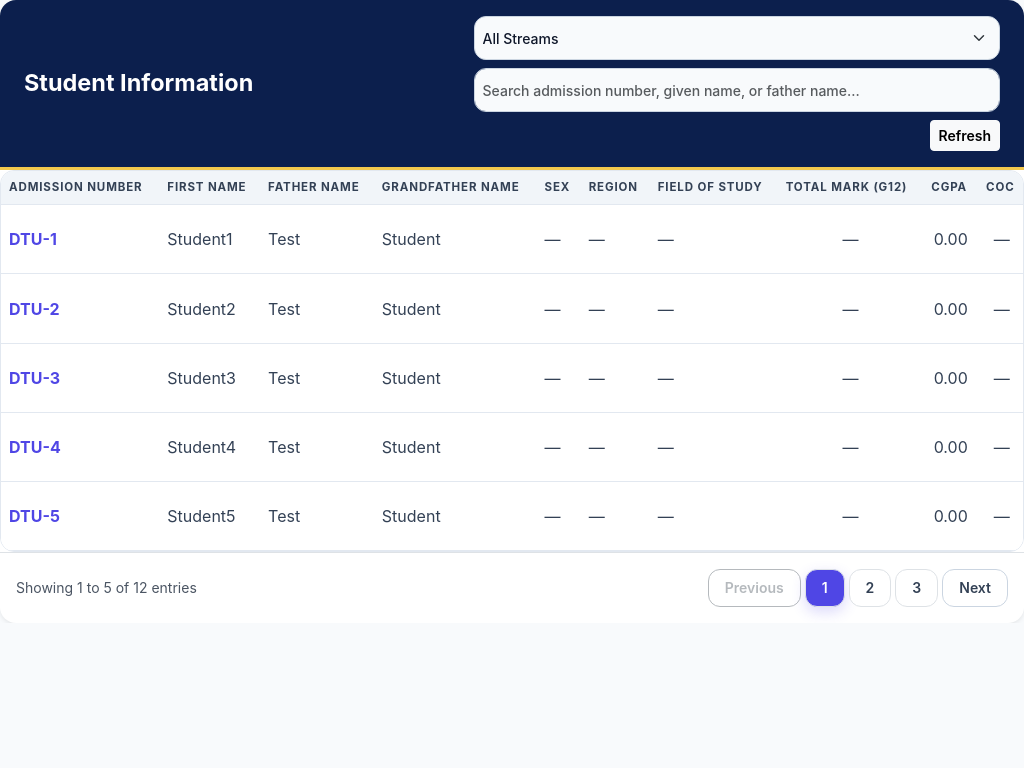
Test case: StudentInformation › paginates student records five at a time and supports page navigation
Check: the text "Showing 1 to 5 of 12 entries" is shown, box [16, 578, 197, 598]
Check: the text "Student1" is shown, box [159, 205, 260, 274]
Click the button "Next": (975, 588) [942, 569, 1008, 607]
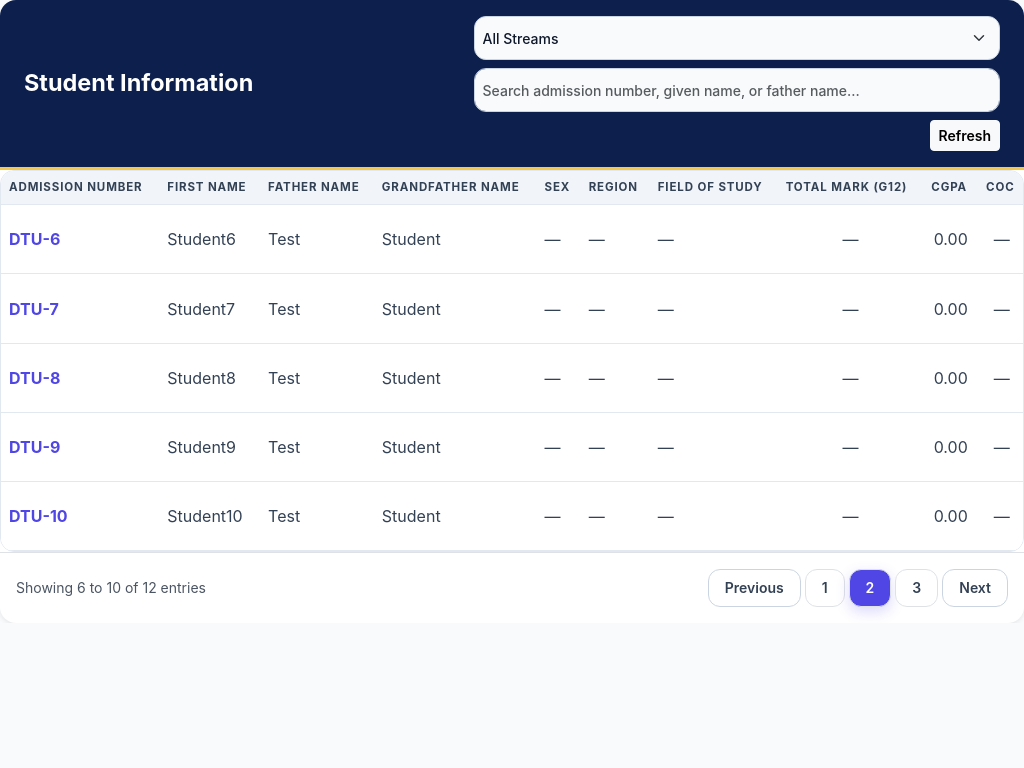
Check: the text "Showing 6 to 10 of 12 entries" is shown, box [16, 578, 206, 598]
Check: the text "Student6" is shown, box [159, 205, 260, 274]
Click the button named "Page 3": (917, 588) [895, 569, 938, 607]
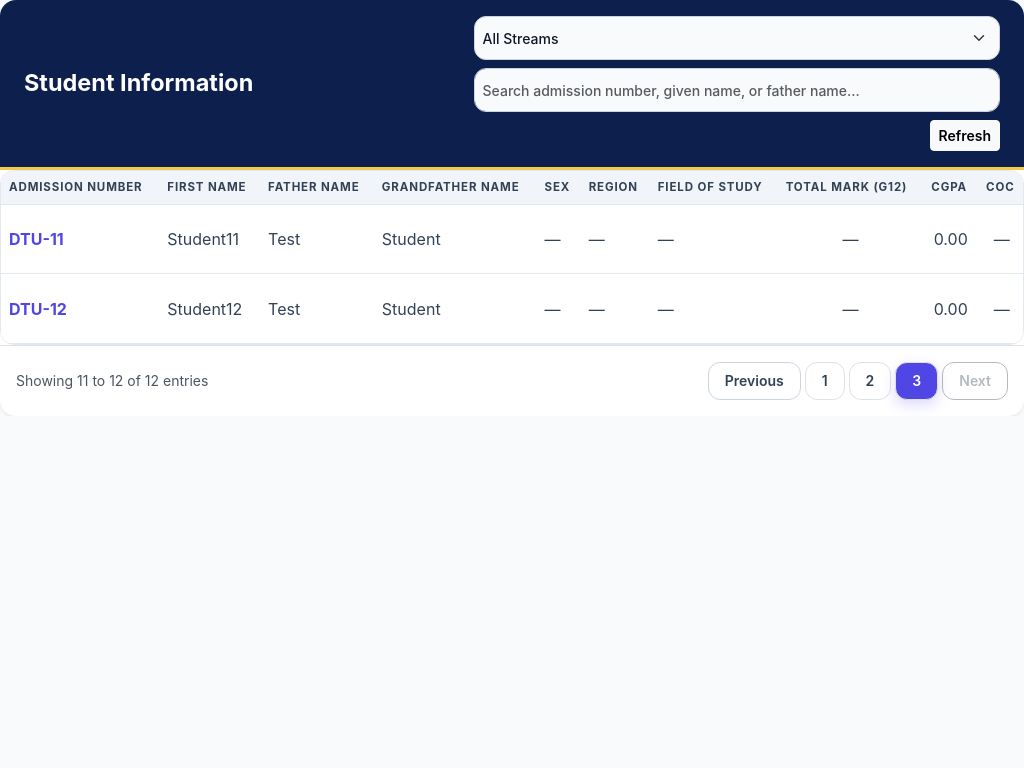
Check: the text "Showing 11 to 12 of 12 entries" is shown, box [16, 371, 208, 391]
Check: the text "Student12" is shown, box [159, 274, 260, 343]
Check: the button "Next" is disabled, box [942, 362, 1008, 400]
Click the button "Previous": (754, 381) [708, 362, 801, 400]
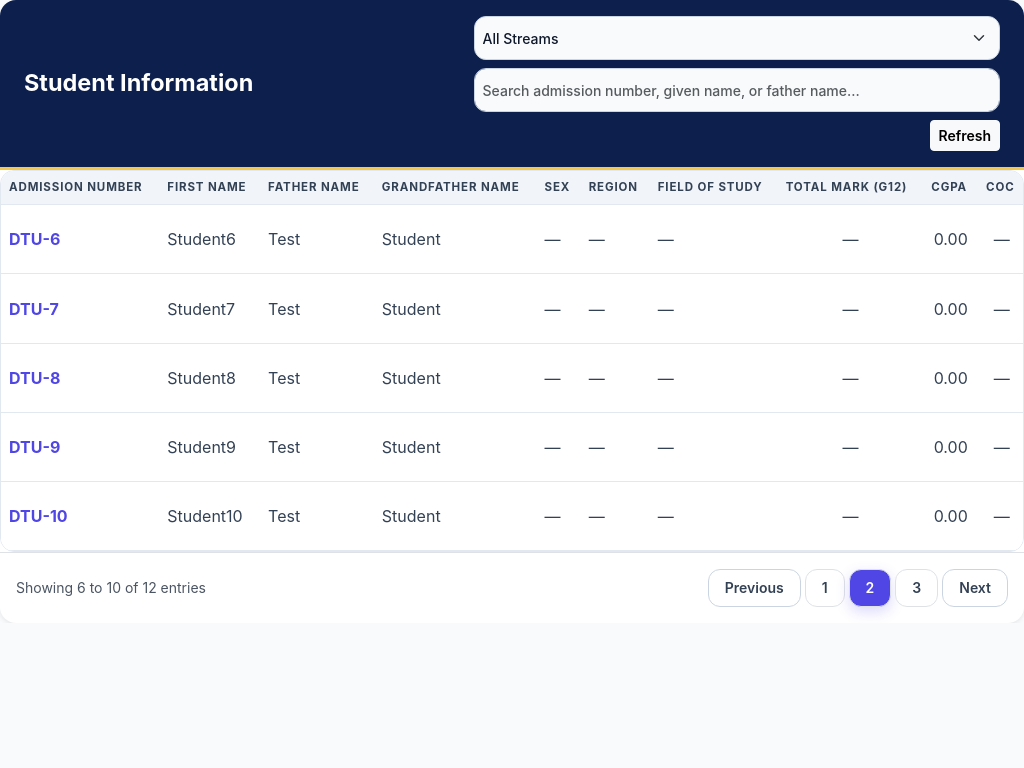
Check: the text "Showing 6 to 10 of 12 entries" is shown, box [16, 578, 206, 598]
